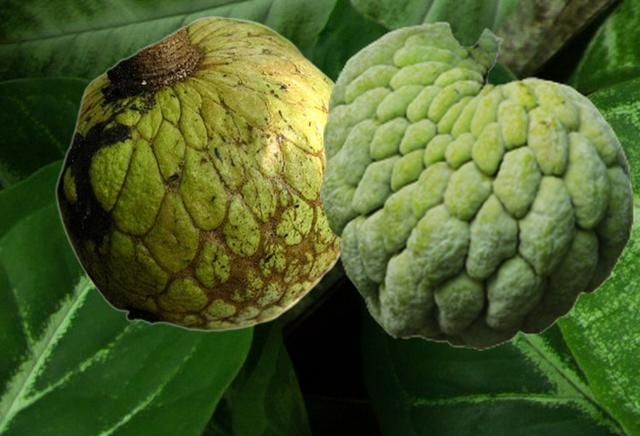atis: (320, 20, 633, 349), (54, 15, 339, 331)
